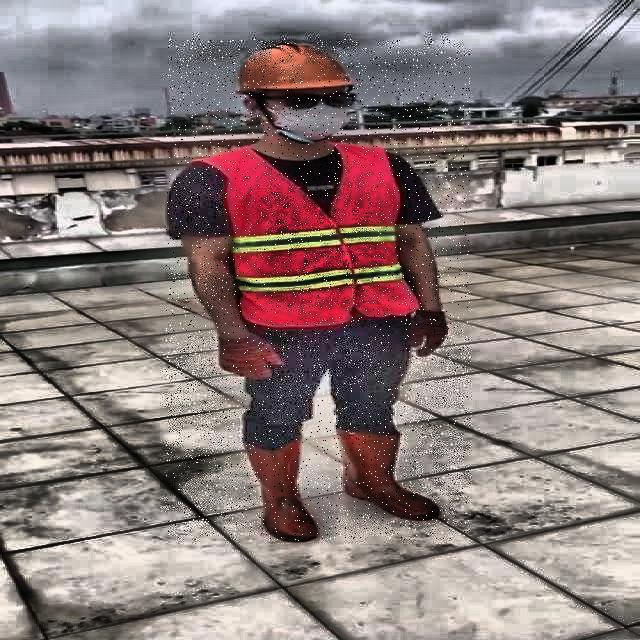safety_helmet: (218, 39, 358, 96)
safety_jacket: (228, 142, 414, 324)
